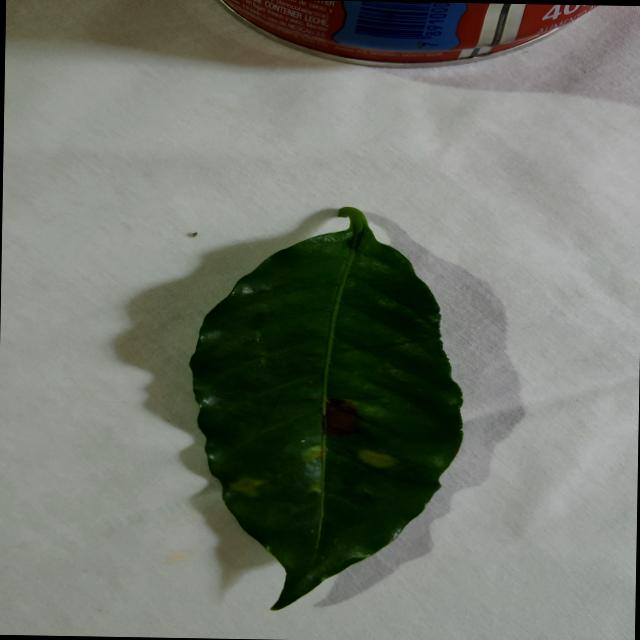KaratDaunKopi: (324, 398, 360, 435), (359, 449, 398, 467), (231, 477, 264, 496), (304, 445, 321, 461), (310, 483, 321, 491)
